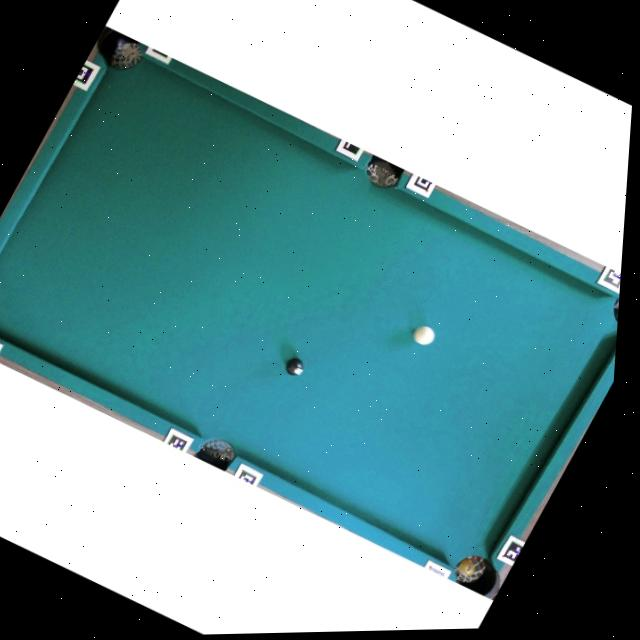cue ball: (408, 320, 439, 350)
other: (280, 352, 309, 380)
